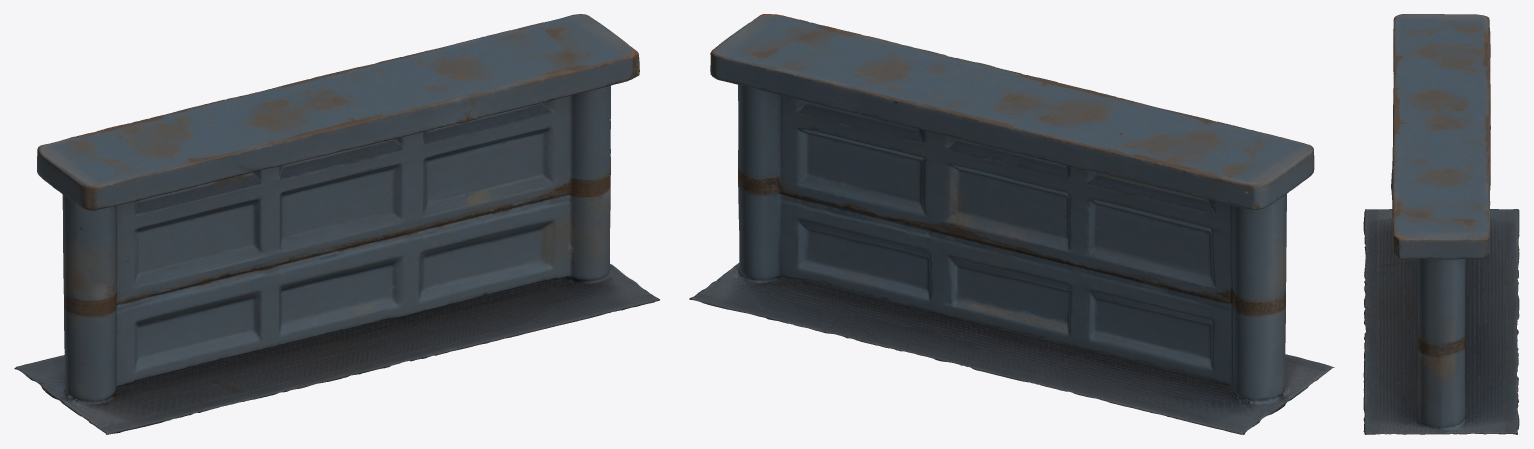
The model's file is Meshy_AI_Weathered_Blue_Garage_0819141137_texture.fbx.
3 views of the same model, side by side, from view 1: azimuth 30°, elevation 25°; view 2: azimuth 150°, elevation 25°; view 3: azimuth 270°, elevation 25° (orthographic). The views are drawn at different scales.
Visible parts, largest first — view 1: Mesh_0; view 2: Mesh_0; view 3: Mesh_0.
Part boxes in pixels (box(x1,y1,x2,y2)): Mesh_0: box(14, 14, 659, 434); Mesh_0: box(689, 14, 1334, 434); Mesh_0: box(1363, 14, 1519, 434).
Size of the model in its own units: 200 by 80.93 by 58.26.
Materials: 1 (1 with a texture image).
